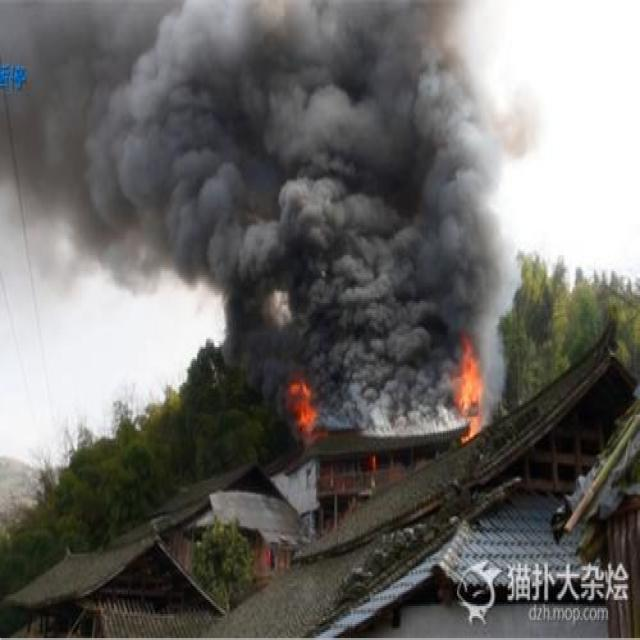fire: (453, 339, 483, 439), (288, 378, 317, 426), (366, 448, 378, 468)
smoke: (0, 2, 533, 429)
